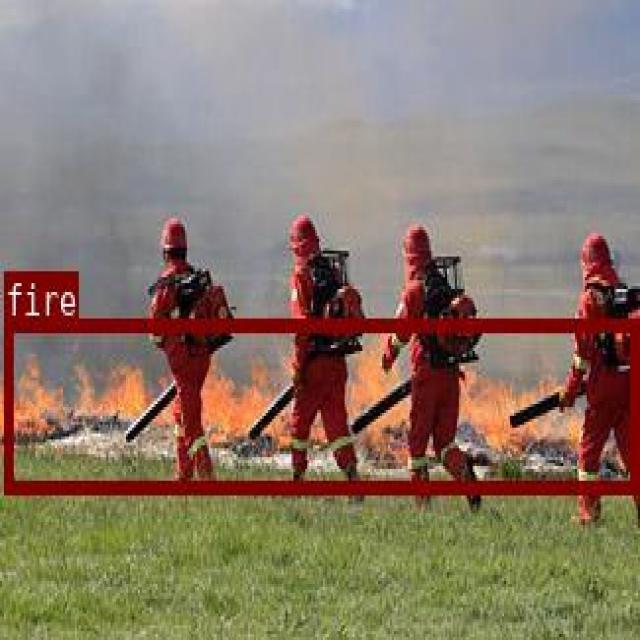fire: (2, 319, 636, 490)
